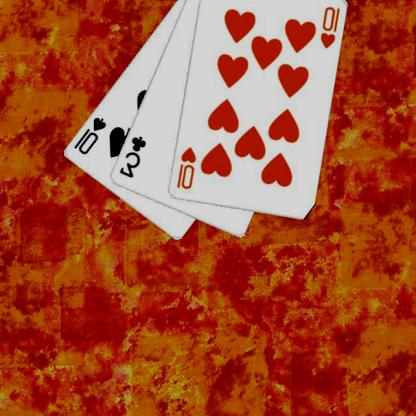10H: (175, 145, 199, 191), (319, 4, 343, 50)
10S: (72, 114, 109, 156)
3C: (118, 134, 149, 180)
